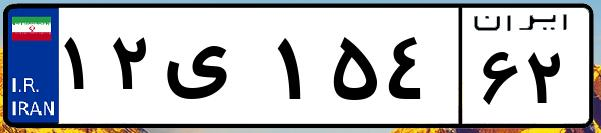1: (270, 28, 330, 110), (57, 26, 110, 100)
2: (525, 38, 570, 115), (110, 28, 158, 98)
4: (385, 28, 445, 110)
5: (330, 28, 385, 110)
6: (475, 38, 525, 113)
ی: (158, 20, 270, 120)
